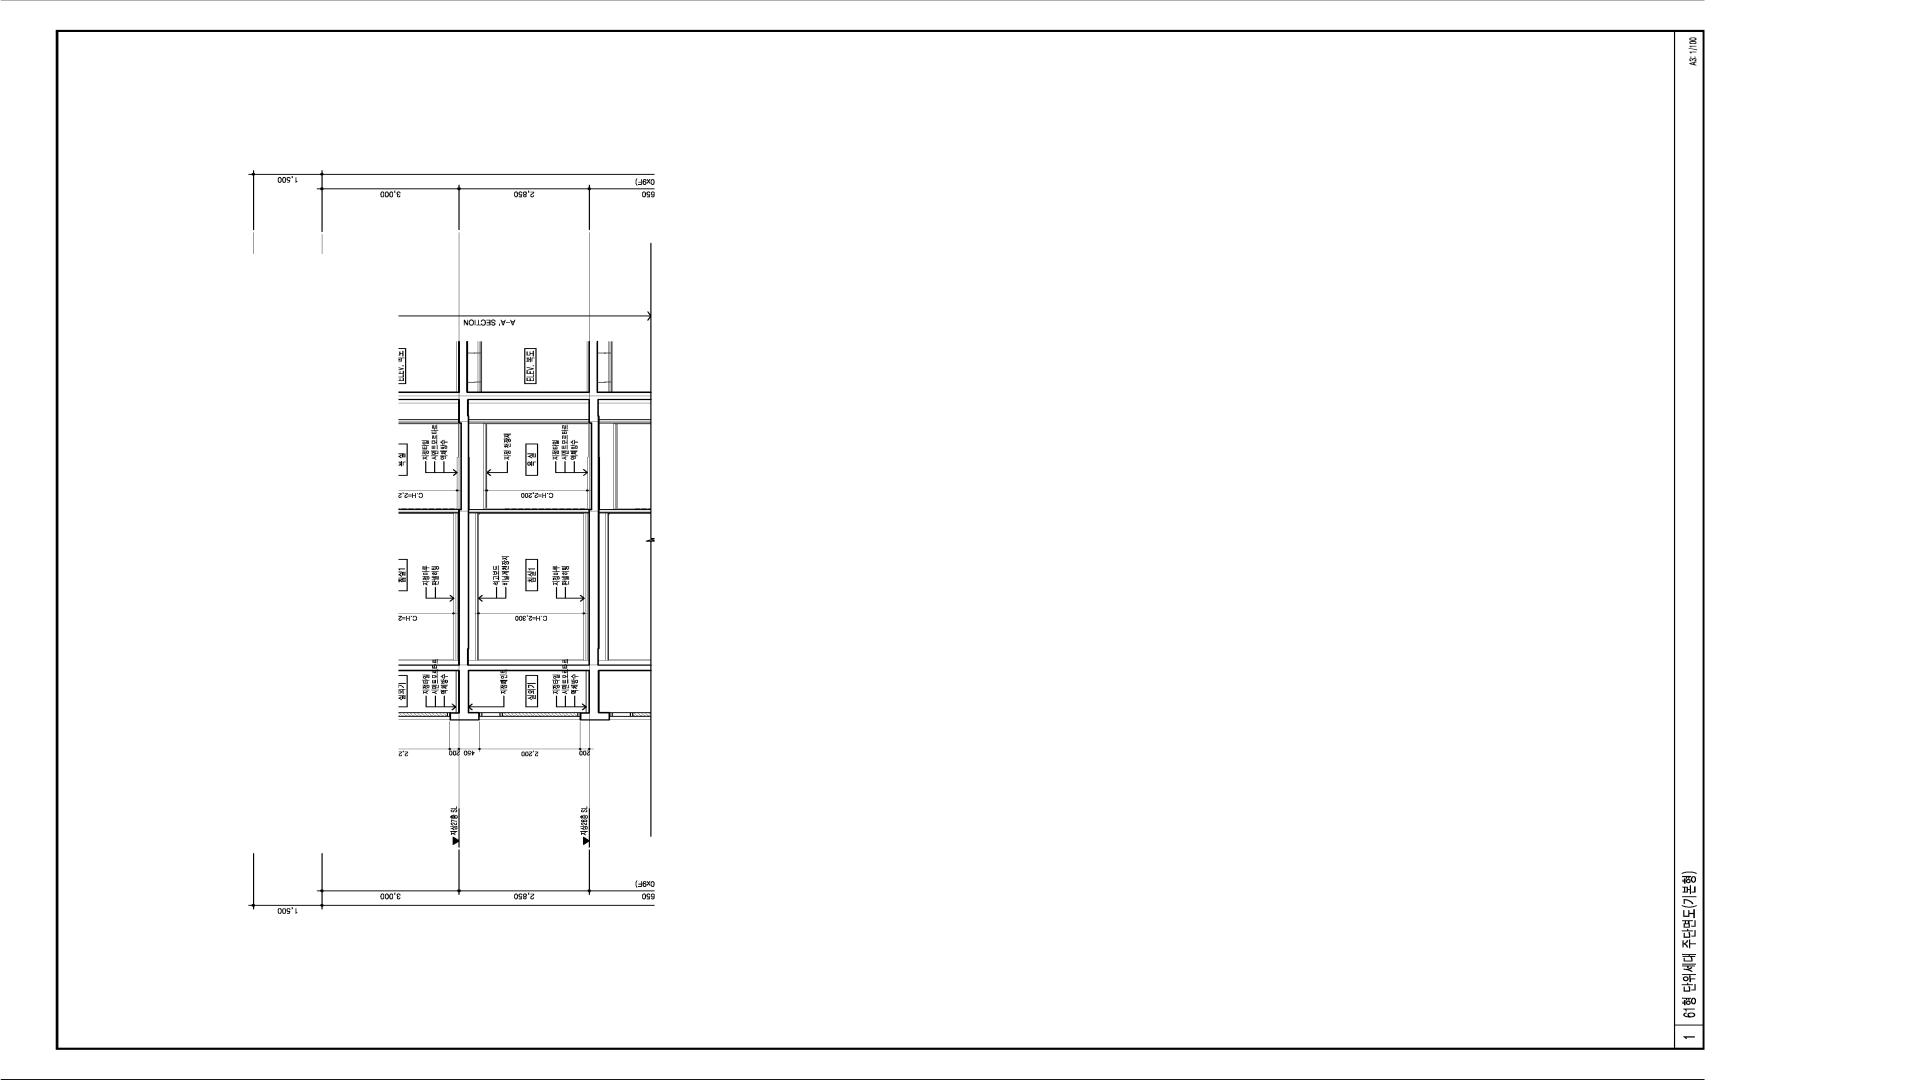wall: (458, 392, 588, 721), (469, 392, 600, 720), (480, 712, 579, 720), (469, 400, 588, 404), (469, 419, 588, 423), (469, 509, 588, 513)
